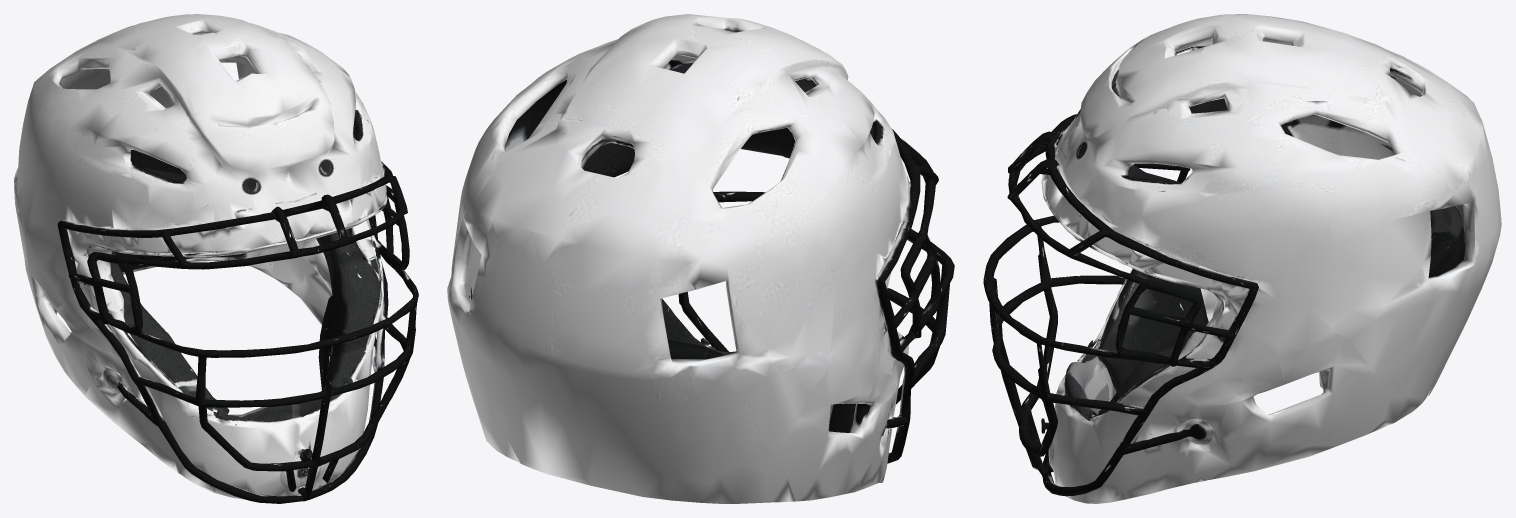
Rendered from catcher_mask.glb.
The picture shows the model from 3 angles, left to right: view 1: azimuth 30°, elevation 25°; view 2: azimuth 150°, elevation 25°; view 3: azimuth 270°, elevation 25°; orthographic projection. The views are drawn at different scales.
Bounding box in the file's own units: 1.45 × 1.81 × 1.9.
1 material, 1 textured.
